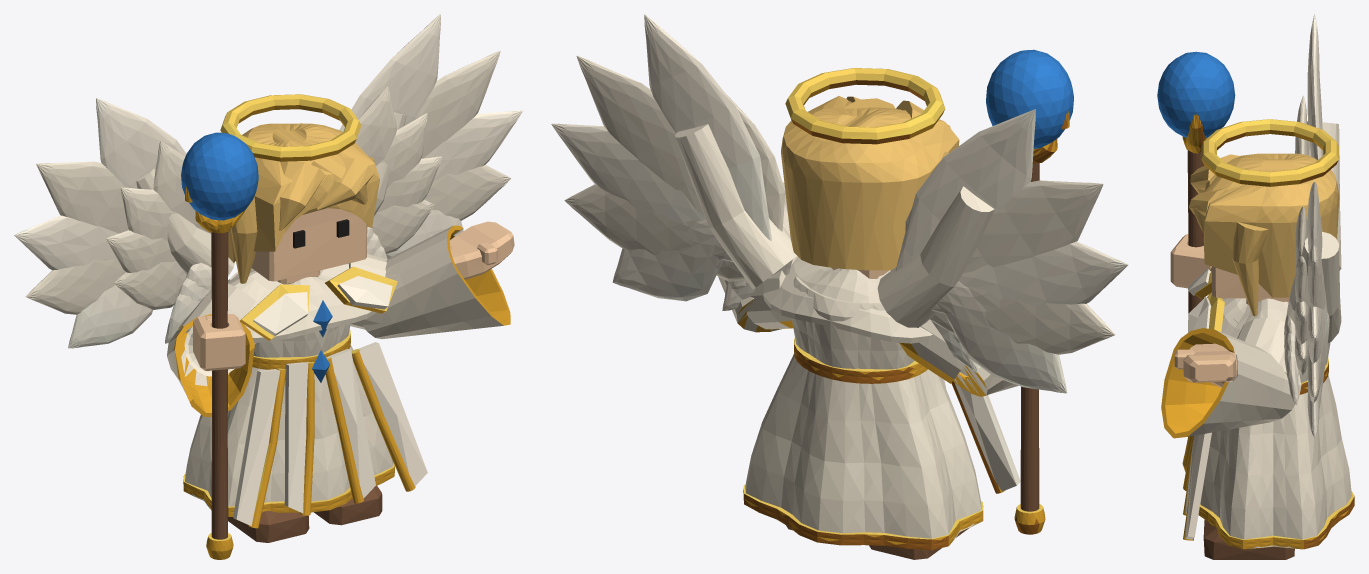
Rendered from archangel.glb.
3 renders of one model, left to right at view 1: azimuth 30°, elevation 25°; view 2: azimuth 150°, elevation 25°; view 3: azimuth 270°, elevation 25°, orthographic. The views are drawn at different scales.
Parts seen in each view (by area): view 1: Clothing — continuous connected deeply pleated source robe, Hair — coherent irregular crown and swept fringe, Clothing — left V7 continuous outer source shoulder elbow cu, Weapon — source richly faceted blue orb, Head — one continuous source cuboid skull and concealed crow, Wing — right broad curved white primary 2, Weapon — source straight coaxial staff shaft, Wing — left broad curved white primary 1, Wing — right broad curved white primary 1, VFX — one horizontal gold halo, Clothing — right V7 continuous outer source shoulder elbow c, Wing — left broad curved white primary 2 (+36 smaller); view 2: Clothing — continuous connected deeply pleated source robe, Hair — coherent irregular crown and swept fringe, Wing — left broad curved white primary 1, Wing — right broad curved white primary 1, Wing — left buried connected shoulder and raised ulna, Wing — right broad curved white primary 2, Wing — right buried connected shoulder and raised ulna, Wing — left broad curved white primary 2, Wing — right broad curved white primary 3, Clothing — thin fitted draped ceremonial mantle shoulder she, Wing — left broad curved white primary 3, VFX — one horizontal gold halo (+13 smaller); view 3: Clothing — continuous connected deeply pleated source robe, Hair — coherent irregular crown and swept fringe, Clothing — left V7 continuous outer source shoulder elbow cu, Weapon — source richly faceted blue orb, VFX — one horizontal gold halo, Hand — left connected broad source outward blessing palm, Wing — left buried connected shoulder and raised ulna, Hair — left fitted tapered temple return, Clothing — sculpted gold skirt hem, Foot — left visible planted robe boot, Clothing — thin fitted draped ceremonial mantle shoulder she, Wing — right broad curved white primary 1 (+21 smaller).
Boxes of the visible parts, left/top/right/bottom form: Clothing — continuous connected deeply pleated source robe: left=185, top=270, right=393, bottom=509; Hair — coherent irregular crown and swept fringe: left=228, top=123, right=379, bottom=262; Clothing — left V7 continuous outer source shoulder elbow cu: left=349, top=225, right=510, bottom=339; Weapon — source richly faceted blue orb: left=181, top=132, right=258, bottom=220; Head — one continuous source cuboid skull and concealed crow: left=251, top=208, right=367, bottom=281; Wing — right broad curved white primary 2: left=36, top=161, right=128, bottom=233; Weapon — source straight coaxial staff shaft: left=211, top=231, right=228, bottom=539; Wing — left broad curved white primary 1: left=339, top=14, right=440, bottom=131; Wing — right broad curved white primary 1: left=96, top=98, right=186, bottom=188; VFX — one horizontal gold halo: left=220, top=94, right=361, bottom=161; Clothing — right V7 continuous outer source shoulder elbow c: left=167, top=283, right=259, bottom=416; Wing — left broad curved white primary 2: left=415, top=50, right=500, bottom=158; Clothing — continuous connected deeply pleated source robe: left=745, top=276, right=981, bottom=541; Hair — coherent irregular crown and swept fringe: left=781, top=96, right=959, bottom=270; Wing — left broad curved white primary 1: left=644, top=14, right=771, bottom=240; Wing — right broad curved white primary 1: left=895, top=109, right=1035, bottom=270; Wing — left buried connected shoulder and raised ulna: left=675, top=124, right=796, bottom=289; Wing — right broad curved white primary 2: left=963, top=180, right=1103, bottom=273; Wing — right buried connected shoulder and raised ulna: left=877, top=186, right=994, bottom=327; Wing — left broad curved white primary 2: left=576, top=55, right=703, bottom=214; Wing — right broad curved white primary 3: left=931, top=241, right=1128, bottom=313; Clothing — thin fitted draped ceremonial mantle shoulder she: left=763, top=256, right=932, bottom=343; Wing — left broad curved white primary 3: left=551, top=123, right=732, bottom=261; VFX — one horizontal gold halo: left=785, top=68, right=945, bottom=144; Clothing — continuous connected deeply pleated source robe: left=1200, top=298, right=1351, bottom=548; Hair — coherent irregular crown and swept fringe: left=1189, top=153, right=1339, bottom=297; Clothing — left V7 continuous outer source shoulder elbow cu: left=1161, top=318, right=1301, bottom=438; Weapon — source richly faceted blue orb: left=1157, top=51, right=1235, bottom=137; VFX — one horizontal gold halo: left=1201, top=119, right=1338, bottom=186; Hand — left connected broad source outward blessing palm: left=1174, top=343, right=1236, bottom=382; Wing — left buried connected shoulder and raised ulna: left=1286, top=232, right=1341, bottom=343; Hair — left fitted tapered temple return: left=1231, top=222, right=1268, bottom=316; Clothing — sculpted gold skirt hem: left=1198, top=491, right=1354, bottom=549; Foot — left visible planted robe boot: left=1203, top=520, right=1294, bottom=559; Clothing — thin fitted draped ceremonial mantle shoulder she: left=1221, top=298, right=1288, bottom=338; Wing — right broad curved white primary 1: left=1307, top=14, right=1323, bottom=159.
Bounding box in the file's own units: 1.4 × 1.14 × 0.4732.
